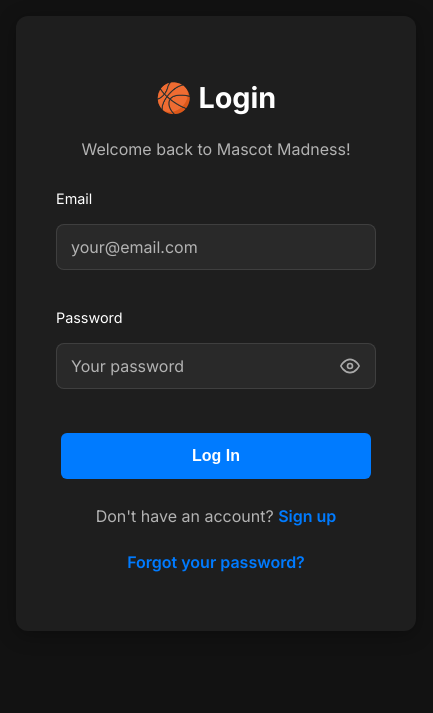
it: Login Page › displays error from auth failure
The width and height of the screenshot is (433, 713).
Type "wrong@example.com" into the field labelled "Email" at (216, 247), box [56,224,376,270]
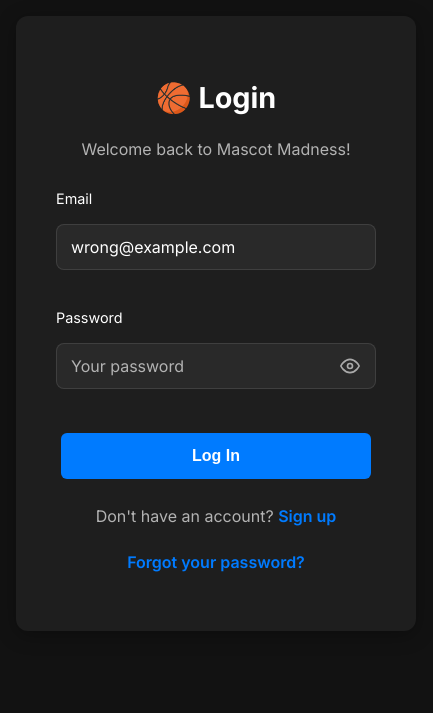
Type "pass" into the password field labelled "Password" at (216, 366), box [56,343,376,389]
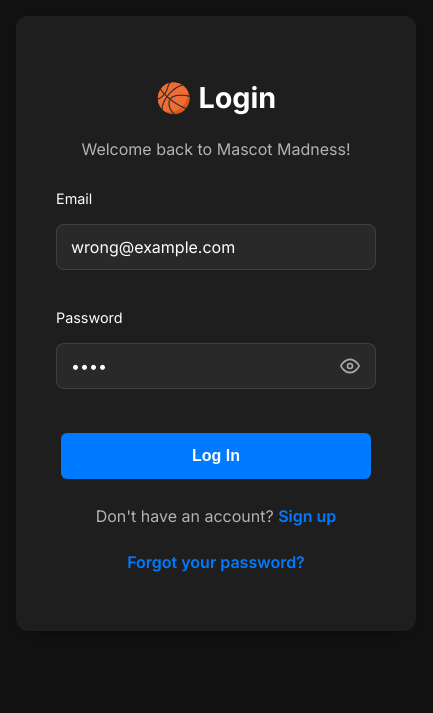
Click the button "Log In" at (216, 456), box [61,433,371,479]
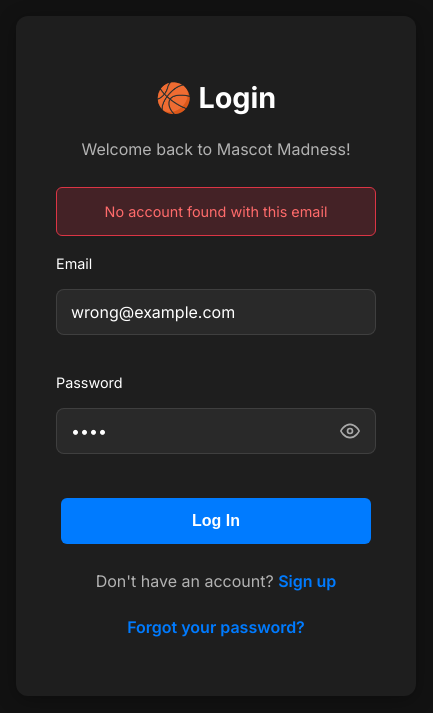
expect the text "No account found with this email" is shown: met, box [56,187,376,236]
